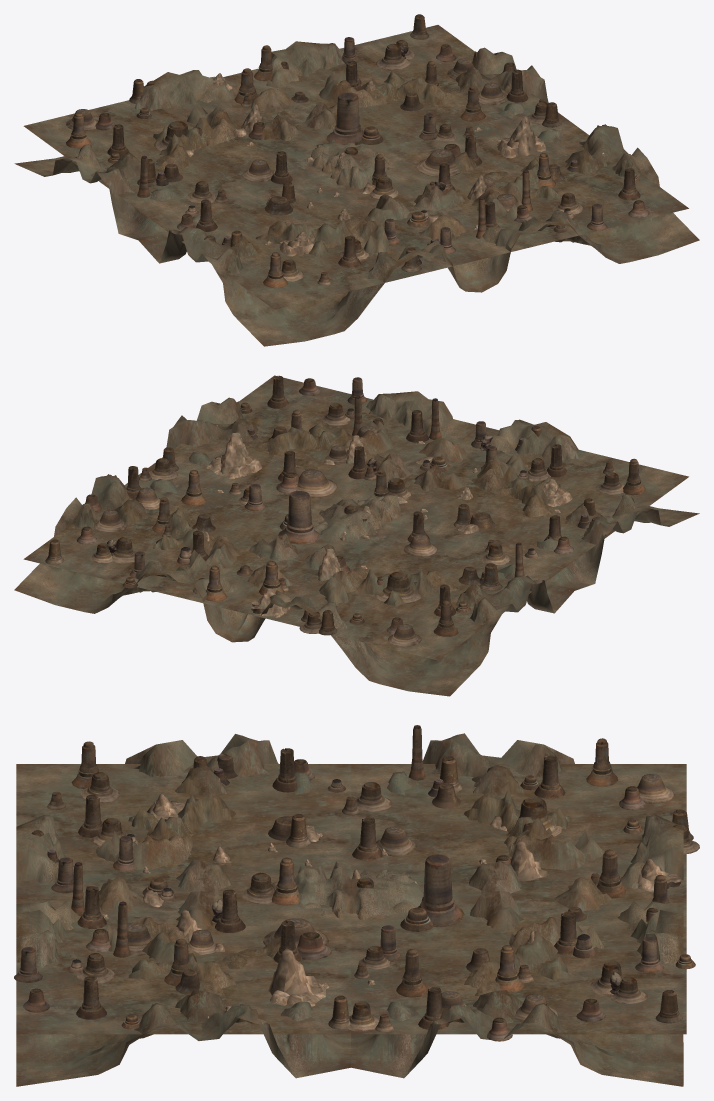
3 renders of one model, top to bottom at view 1: azimuth 30°, elevation 25°; view 2: azimuth 150°, elevation 25°; view 3: azimuth 270°, elevation 25°, orthographic. The views are drawn at different scales.
Parts seen in each view (by area): view 1: sence02aY, mountainsY, sence02bY, stone02Y; view 2: sence02aY, mountainsY, sence02bY, stone02Y; view 3: sence02aY, mountainsY, sence02bY, stone02Y.
Boxes of the visible parts, x1,y1,x2,y2 form: sence02aY: (23,25,688,309); mountainsY: (14,41,699,346); sence02bY: (66,14,649,288); stone02Y: (186,73,545,256); sence02aY: (23,375,688,660); mountainsY: (14,391,699,696); sence02bY: (45,375,645,646); stone02Y: (204,432,572,617); sence02aY: (16,764,686,1034); mountainsY: (16,733,683,1086); sence02bY: (14,725,699,1041); stone02Y: (143,793,681,1006).
Size of the model in its own units: 2868 by 511 by 2924.
